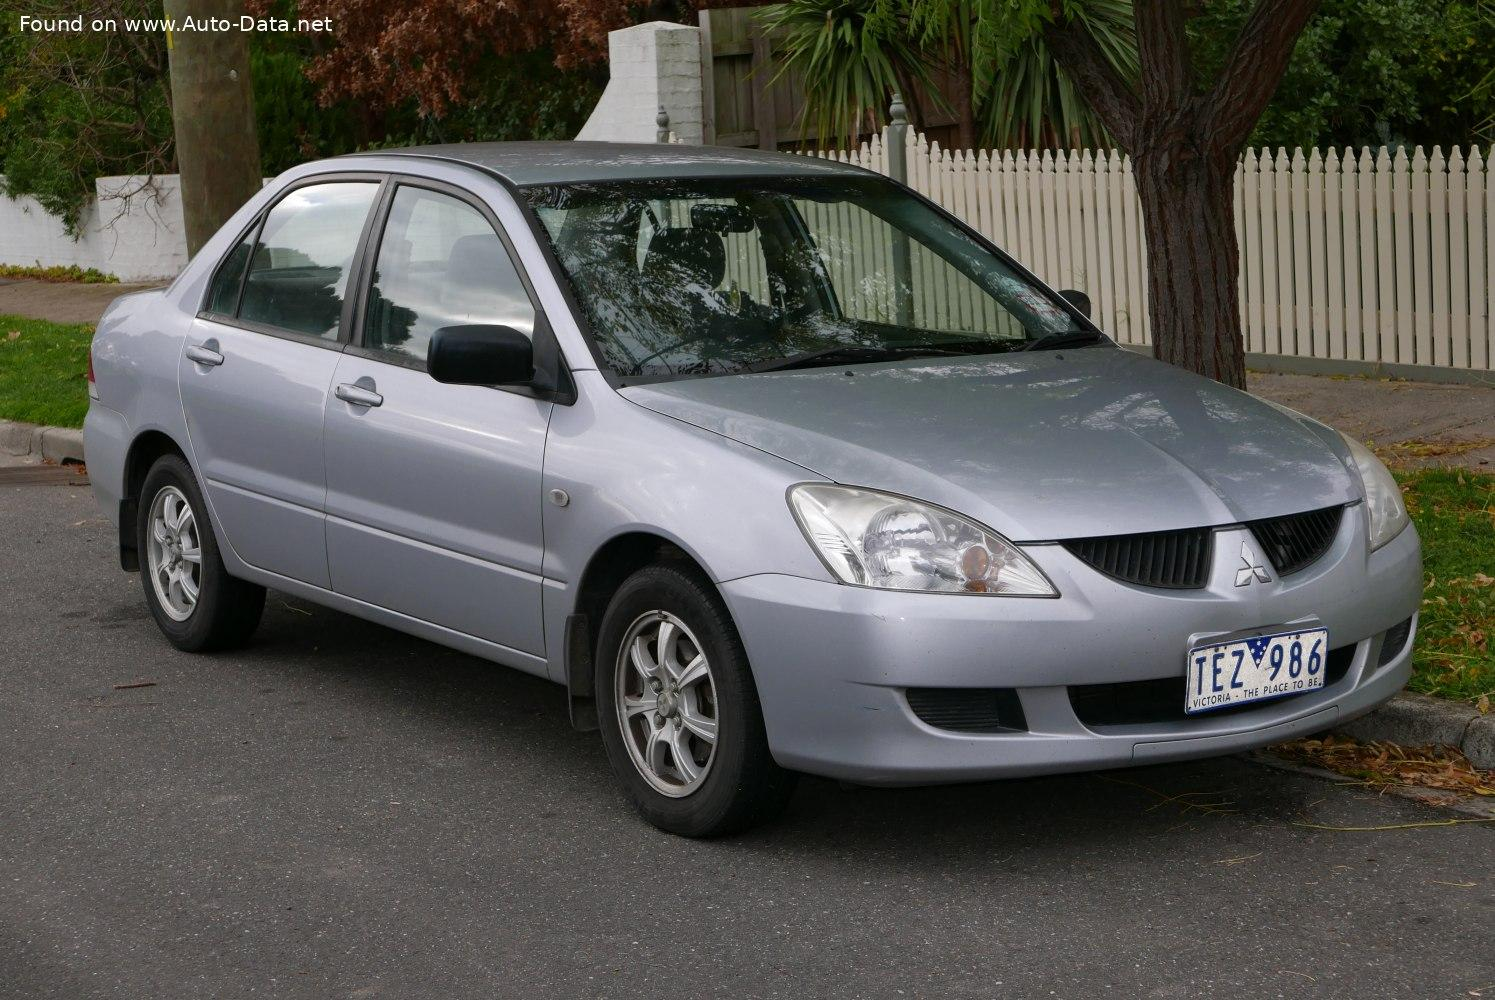Mitsubishi: (1213, 522, 1293, 599)
